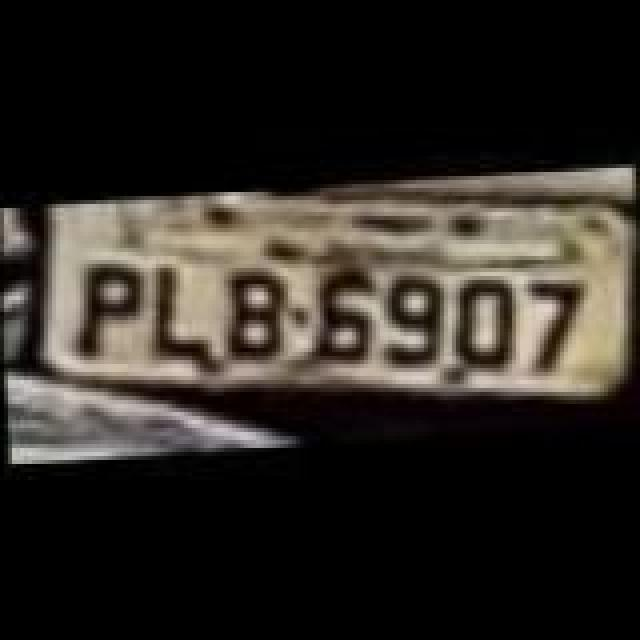6: (310, 268, 382, 372)
7: (522, 276, 594, 384)
9: (376, 272, 452, 376)
B: (218, 264, 290, 372)
L: (144, 254, 220, 366)
O: (452, 282, 520, 378)
P: (76, 254, 144, 366)
